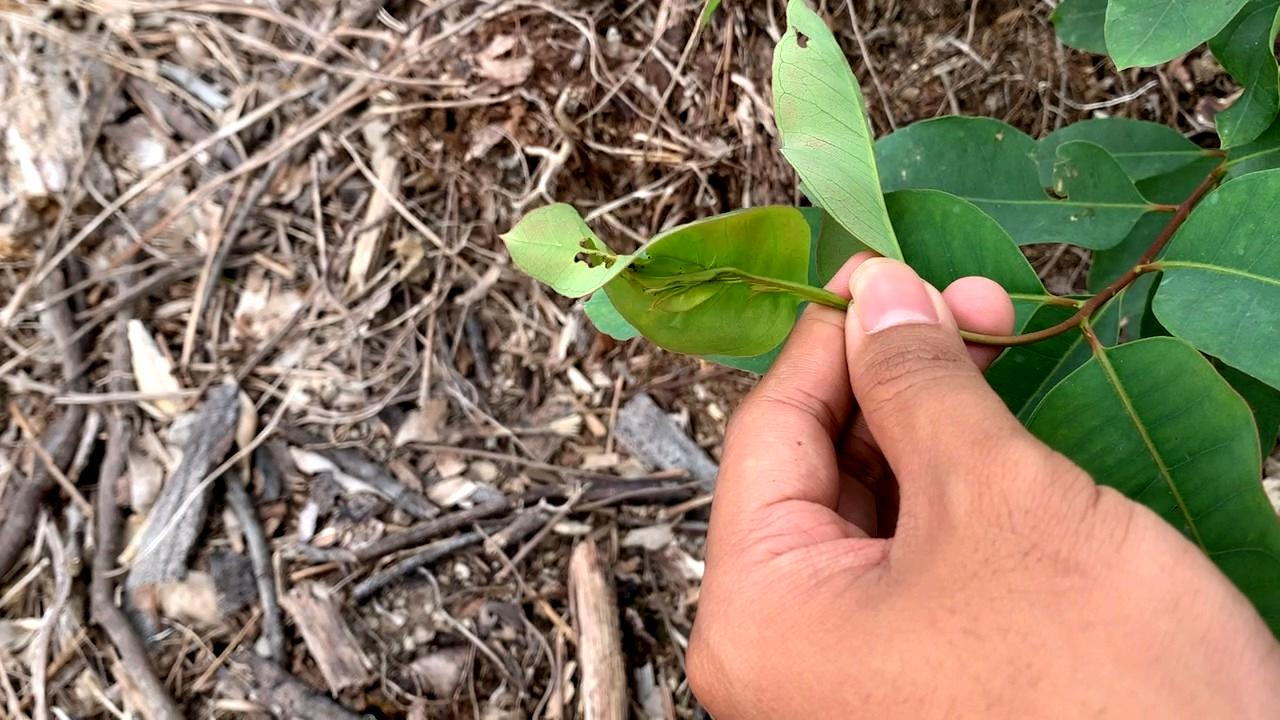Leaf Roller - Leaf: (505, 204, 819, 379)
